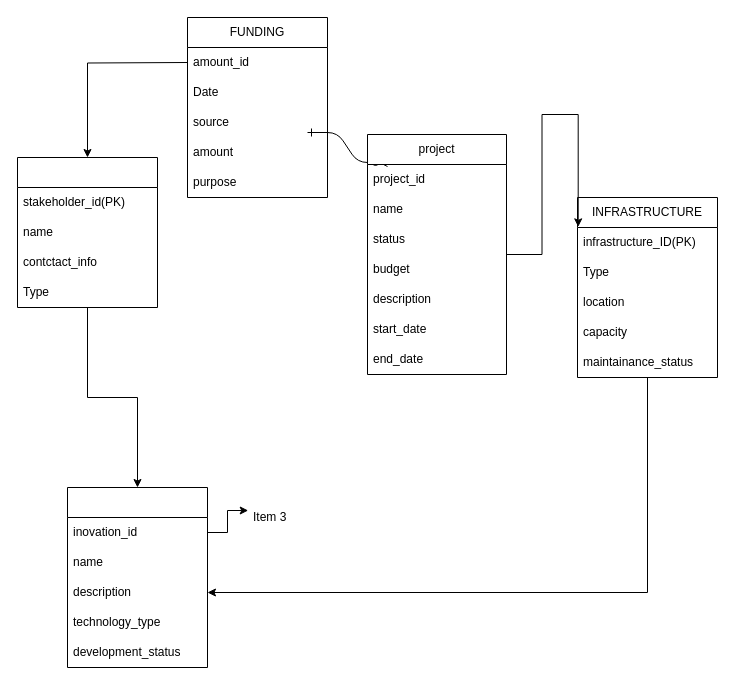
The diagram is 735 pixels wide and 685 high, and some of its shapes have lost their labels. The box of each missing label's shape, as (x1, y1, x2, y2) in pixels:
INNOVATION: (66, 486, 208, 668)
STAKE HOLDERS: (16, 156, 158, 308)
